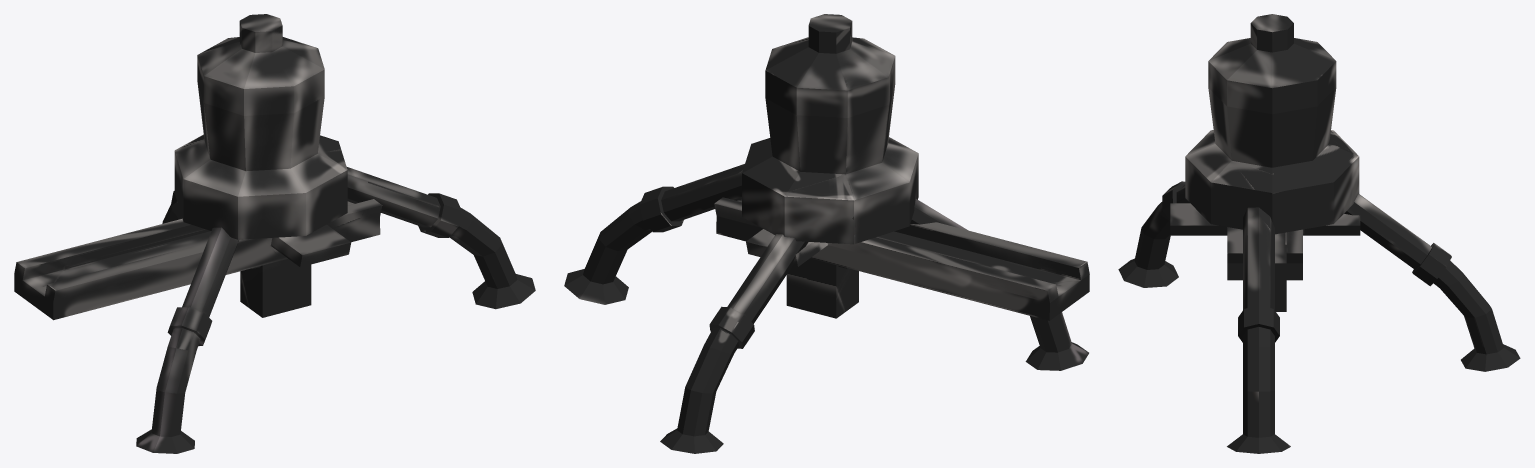
File: Launcher.fbx
3 views of the same model, side by side, from view 1: azimuth 30°, elevation 25°; view 2: azimuth 150°, elevation 25°; view 3: azimuth 270°, elevation 25° (orthographic). The views are drawn at different scales.
Parts seen in each view (by area): view 1: Launcher Thingy, tilting launcher part; view 2: Launcher Thingy, tilting launcher part; view 3: Launcher Thingy, tilting launcher part.
Boxes of the visible parts, left/top/right/bottom form: Launcher Thingy: left=136, top=14, right=535, bottom=453; tilting launcher part: left=14, top=199, right=382, bottom=320; Launcher Thingy: left=564, top=14, right=1088, bottom=453; tilting launcher part: left=714, top=197, right=1089, bottom=320; Launcher Thingy: left=1118, top=14, right=1520, bottom=453; tilting launcher part: left=1170, top=203, right=1360, bottom=311.
Size of the model in its own units: 192 by 126 by 139.
